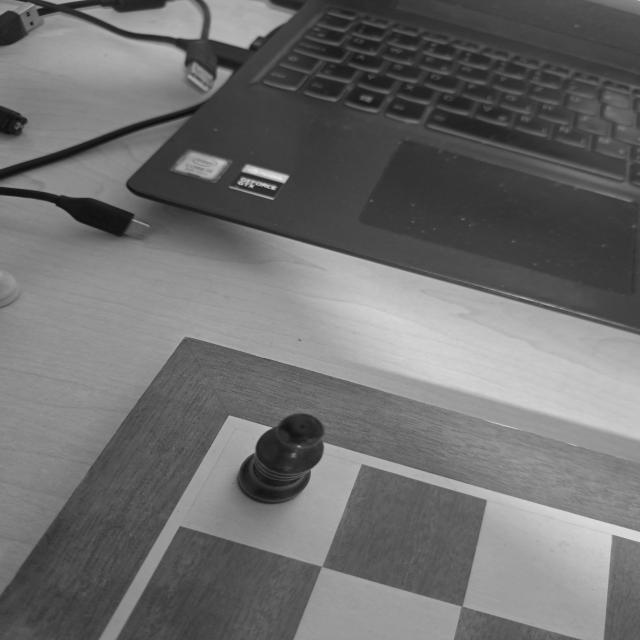chess-table-corners: (193, 401, 280, 456)
